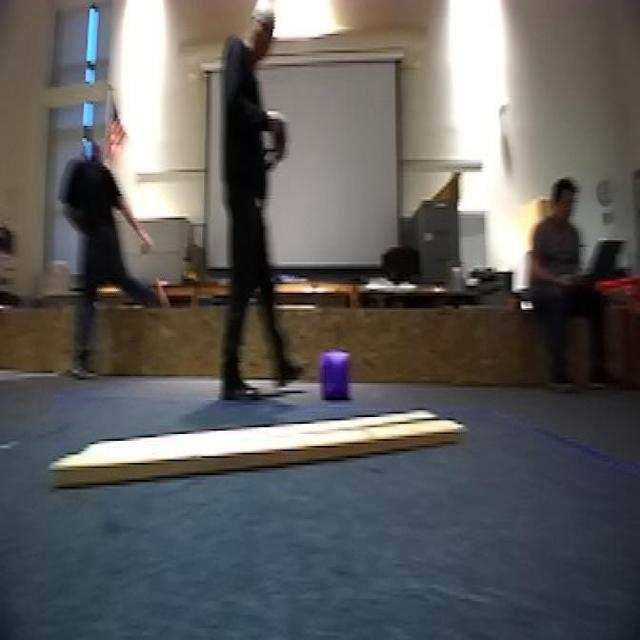frc_cube: (317, 352, 353, 400)
